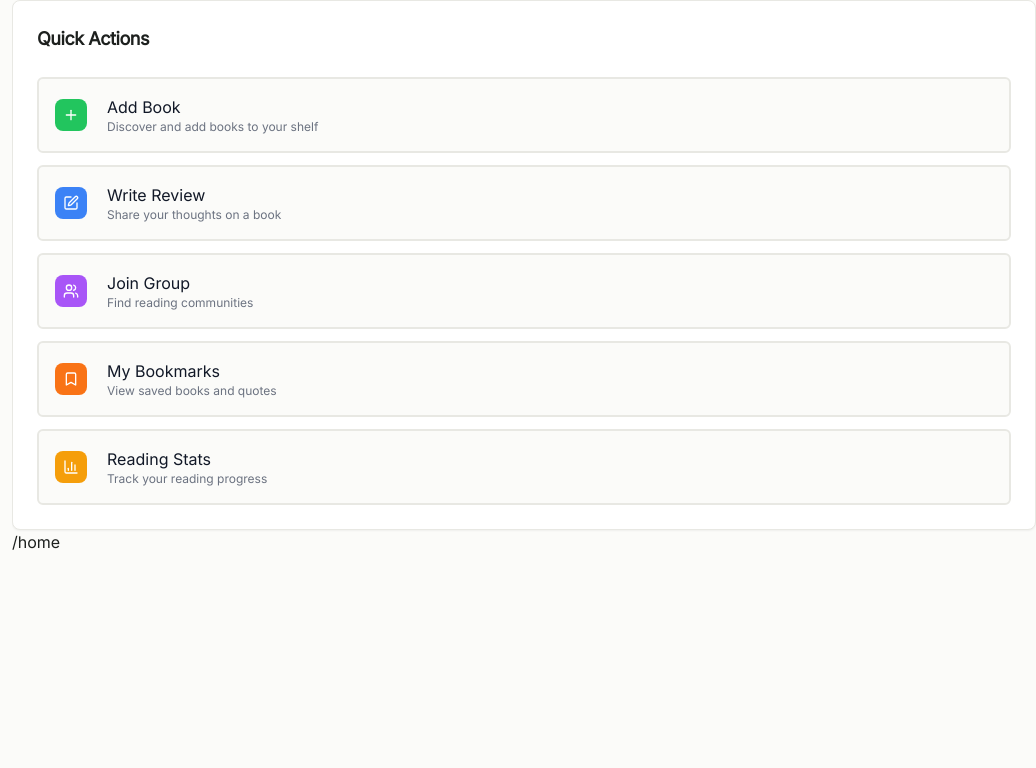
Test: QuickActionsPanel › navigates to the correct destination for Add Book
Click the button "Add Book Discover and add books to your shelf" at (71,115), box [37,77,1011,153]
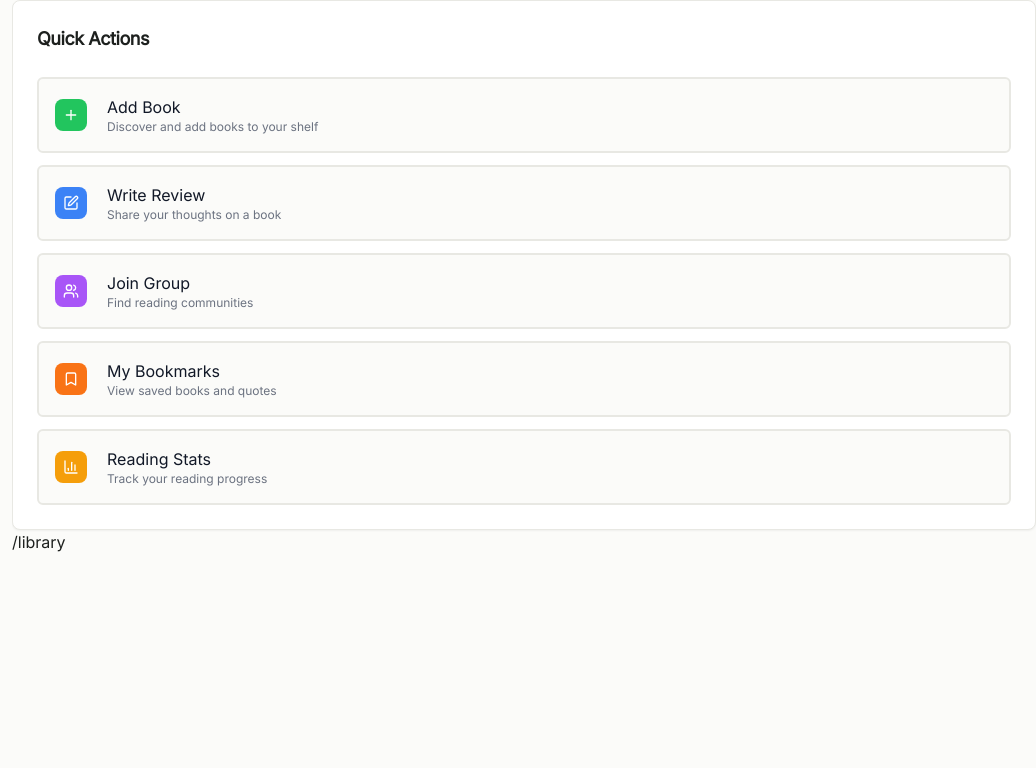
expect the text named "current route" reads "/library": met, box [12,532,66,552]
